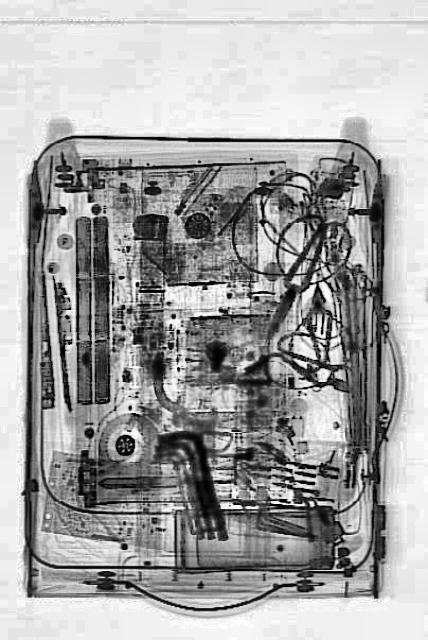Scissors: (238, 185, 358, 368), (284, 274, 355, 372)
